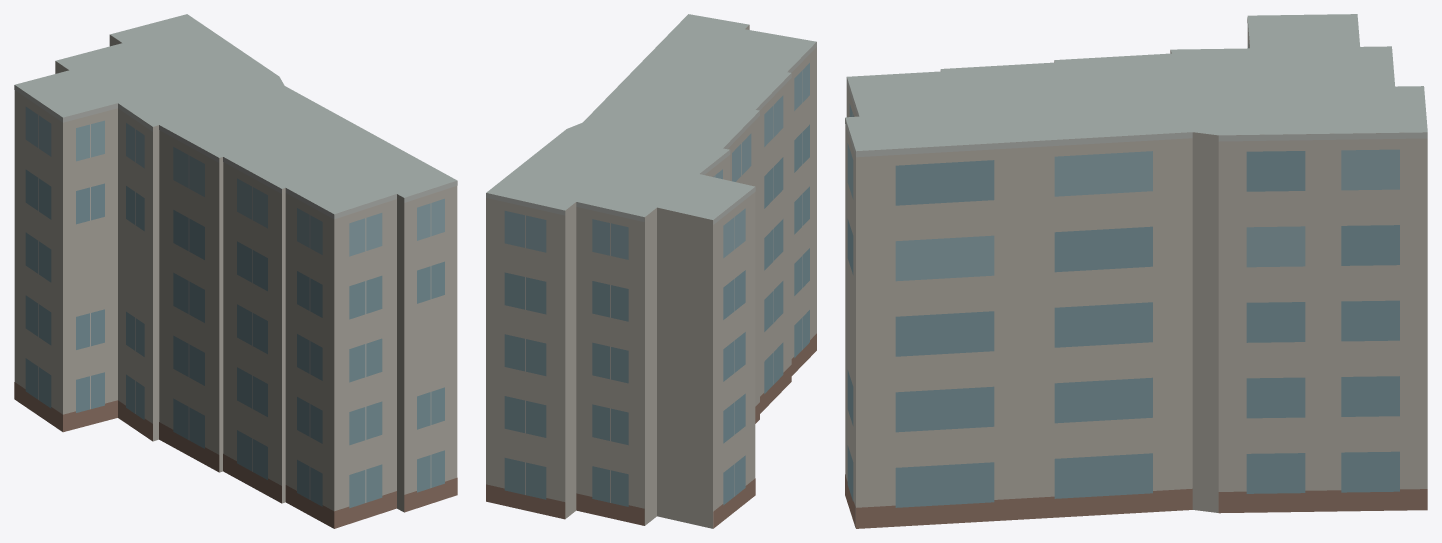
Rendered from survey-upis-32749806.glb.
3 views of the same model, side by side, from view 1: azimuth 30°, elevation 25°; view 2: azimuth 150°, elevation 25°; view 3: azimuth 270°, elevation 25° (orthographic). The views are drawn at different scales.
Parts seen in each view (by area): view 1: survey-upis-32749806.tmp; view 2: survey-upis-32749806.tmp; view 3: survey-upis-32749806.tmp.
Part boxes in pixels (<box>): survey-upis-32749806.tmp: <box>14,14,457,528</box>; survey-upis-32749806.tmp: <box>486,14,816,528</box>; survey-upis-32749806.tmp: <box>845,14,1427,528</box>.
Bounding box in the file's own units: 11.73 × 15.05 × 21.05.
